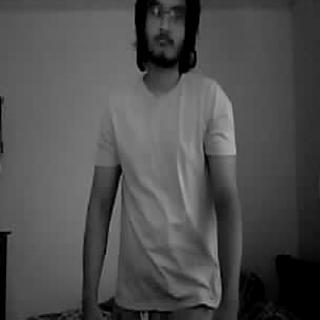Yellow T-Shirt: (95, 73, 242, 314)
